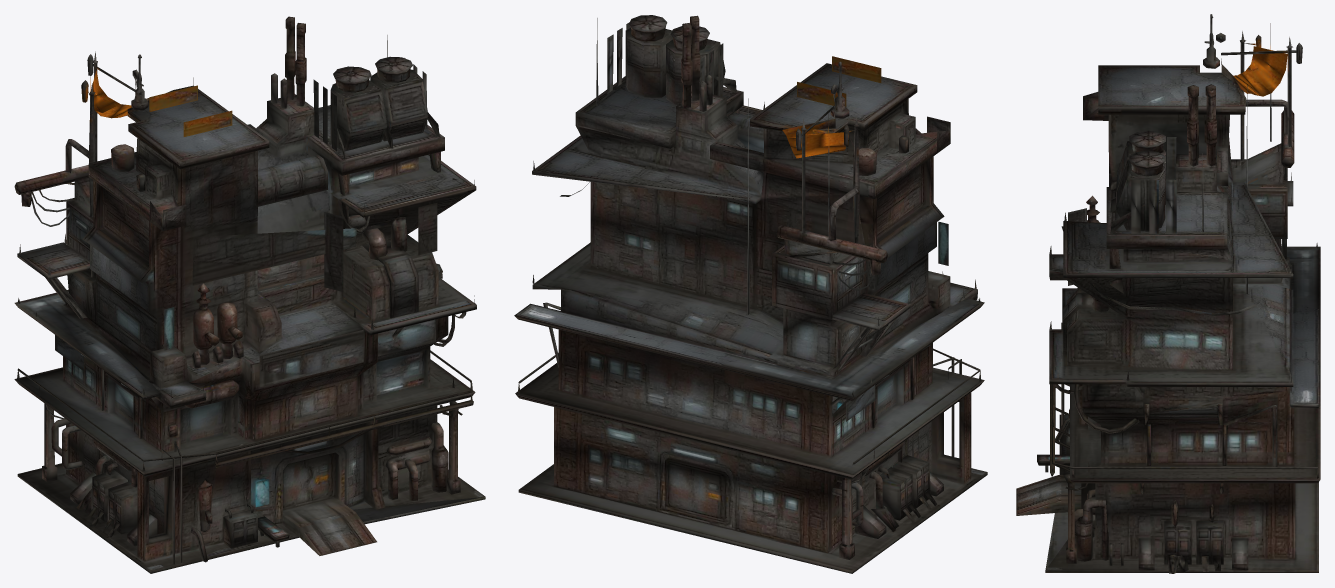
The model's file is 019eb027-aab7-7ae3-9d83-f3b30cb5feea.glb.
3 views of the same model, side by side, from view 1: azimuth 30°, elevation 25°; view 2: azimuth 150°, elevation 25°; view 3: azimuth 270°, elevation 25° (orthographic). The views are drawn at different scales.
Visible parts, largest first — view 1: tripo_node_75db4a02-a119-407f-b9e6-e0fdc2675708; view 2: tripo_node_75db4a02-a119-407f-b9e6-e0fdc2675708; view 3: tripo_node_75db4a02-a119-407f-b9e6-e0fdc2675708.
Boxes of the visible parts, x1=… form: tripo_node_75db4a02-a119-407f-b9e6-e0fdc2675708: x1=14, y1=16, x2=485, y2=573; tripo_node_75db4a02-a119-407f-b9e6-e0fdc2675708: x1=514, y1=15, x2=987, y2=573; tripo_node_75db4a02-a119-407f-b9e6-e0fdc2675708: x1=1016, y1=14, x2=1320, y2=573.
Bounding box in the file's own units: 0.8184 × 0.998 × 0.6309.
1 material, 1 textured.
